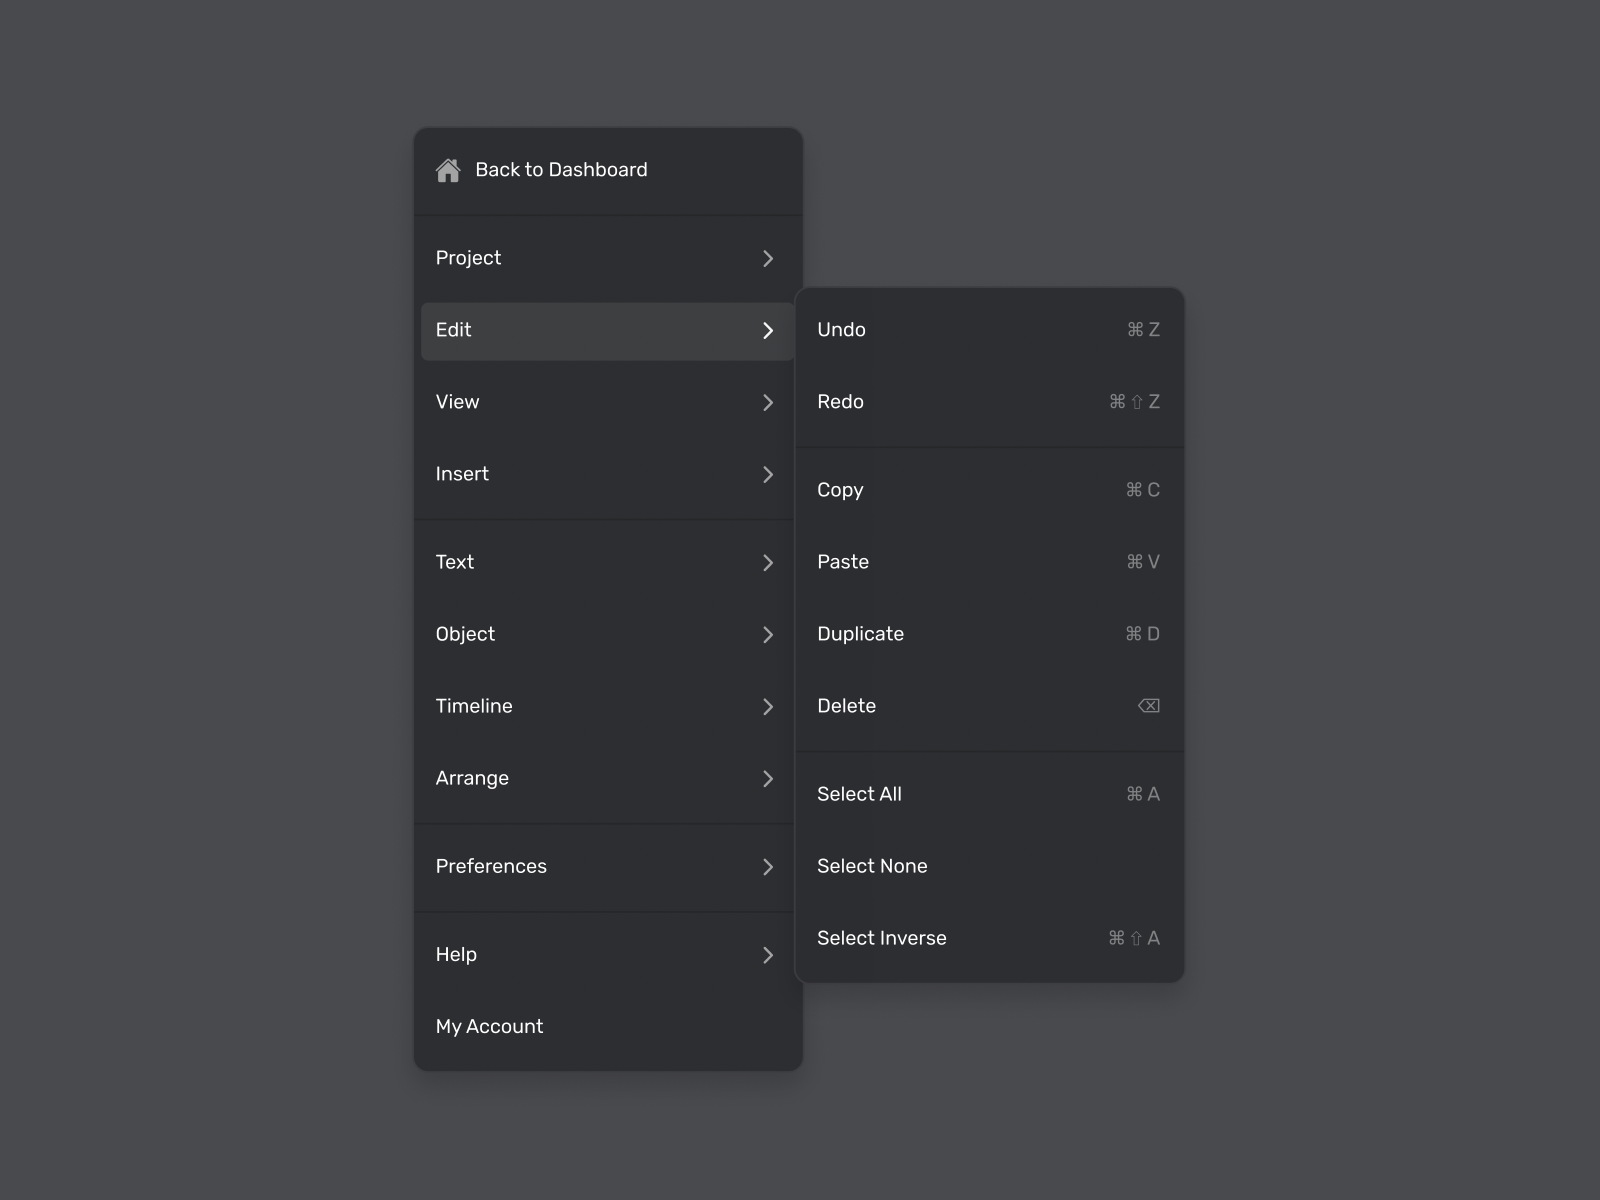menu-bar: (418, 228, 787, 1030)
